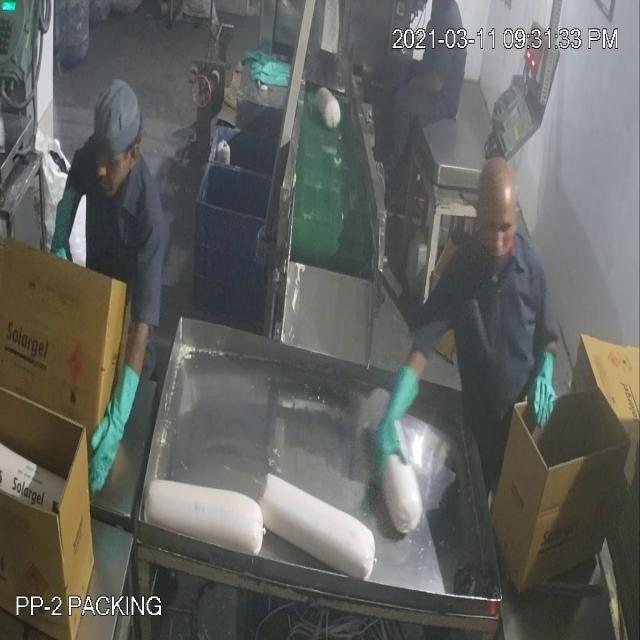Gloves: (34, 100, 547, 426)
